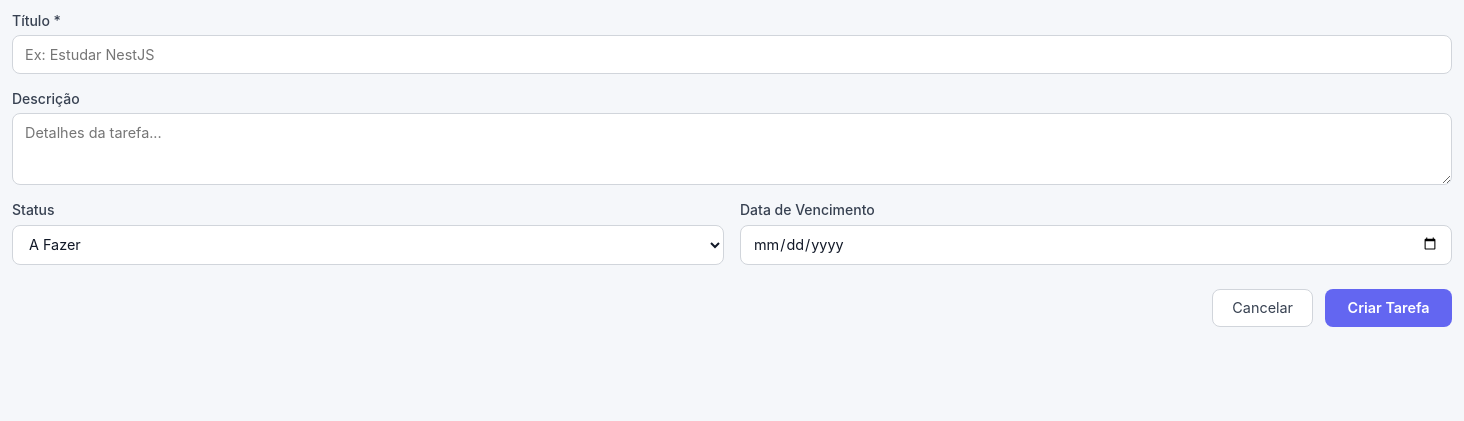
Scenario: TaskForm › shows error when submitting without title
The width and height of the screenshot is (1464, 421).
Click the button "Criar Tarefa" at (1389, 308), box [1325,289,1452,327]
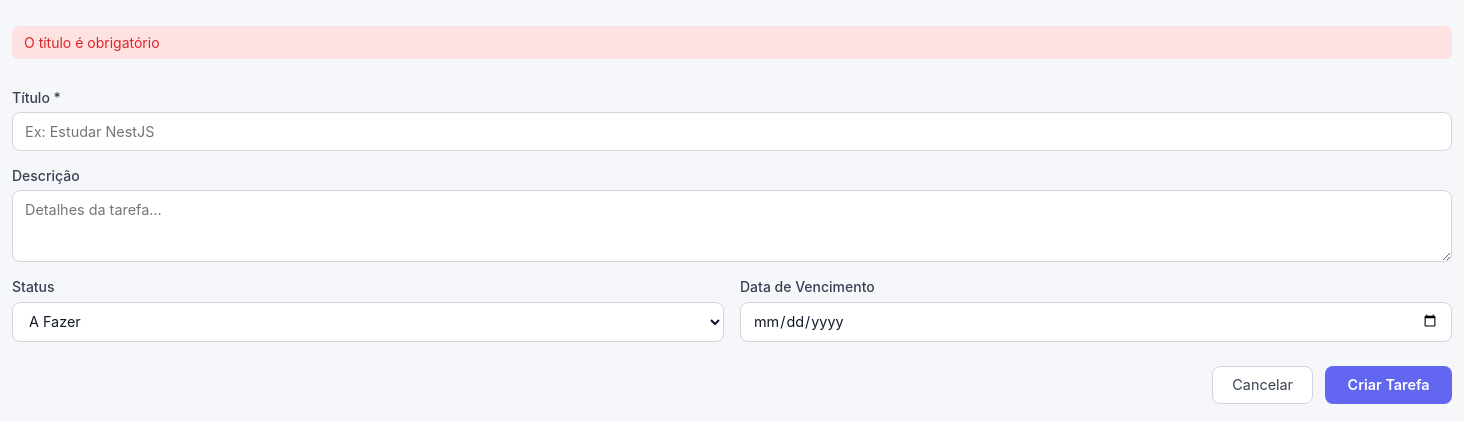
Expected: the text "O título é obrigatório" is shown, [12,26,1452,59]
